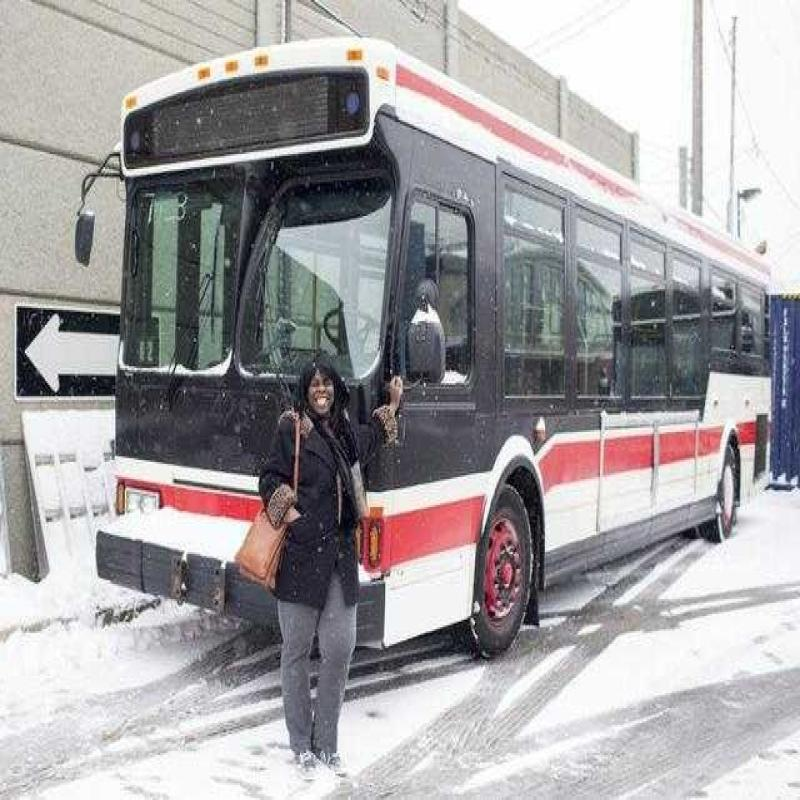bus: (118, 59, 790, 614)
